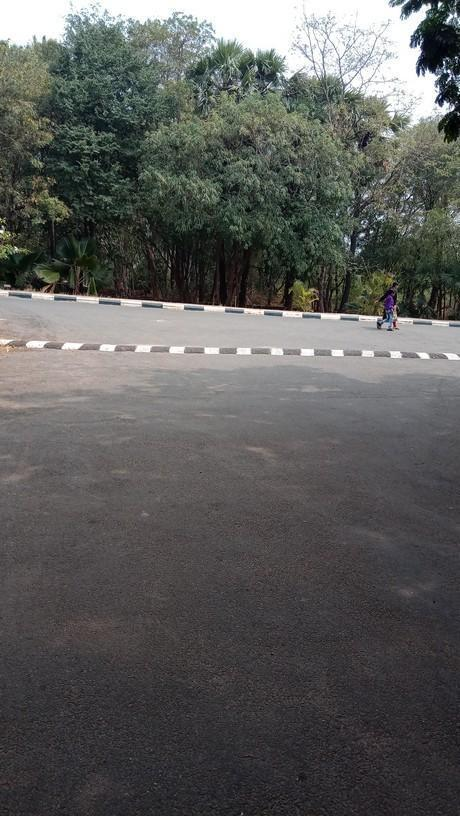speedbreaker: (3, 326, 460, 365)
